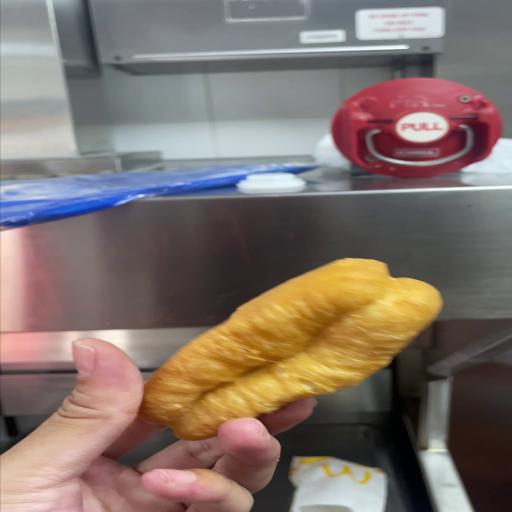brand_golden_good: (139, 259, 442, 440)
